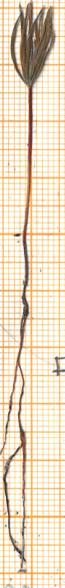flower: (0, 0, 62, 88)
root: (0, 236, 43, 573)
stem: (13, 89, 42, 236)
